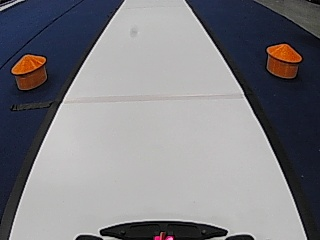granary: (9, 52, 49, 92), (264, 41, 302, 79)
